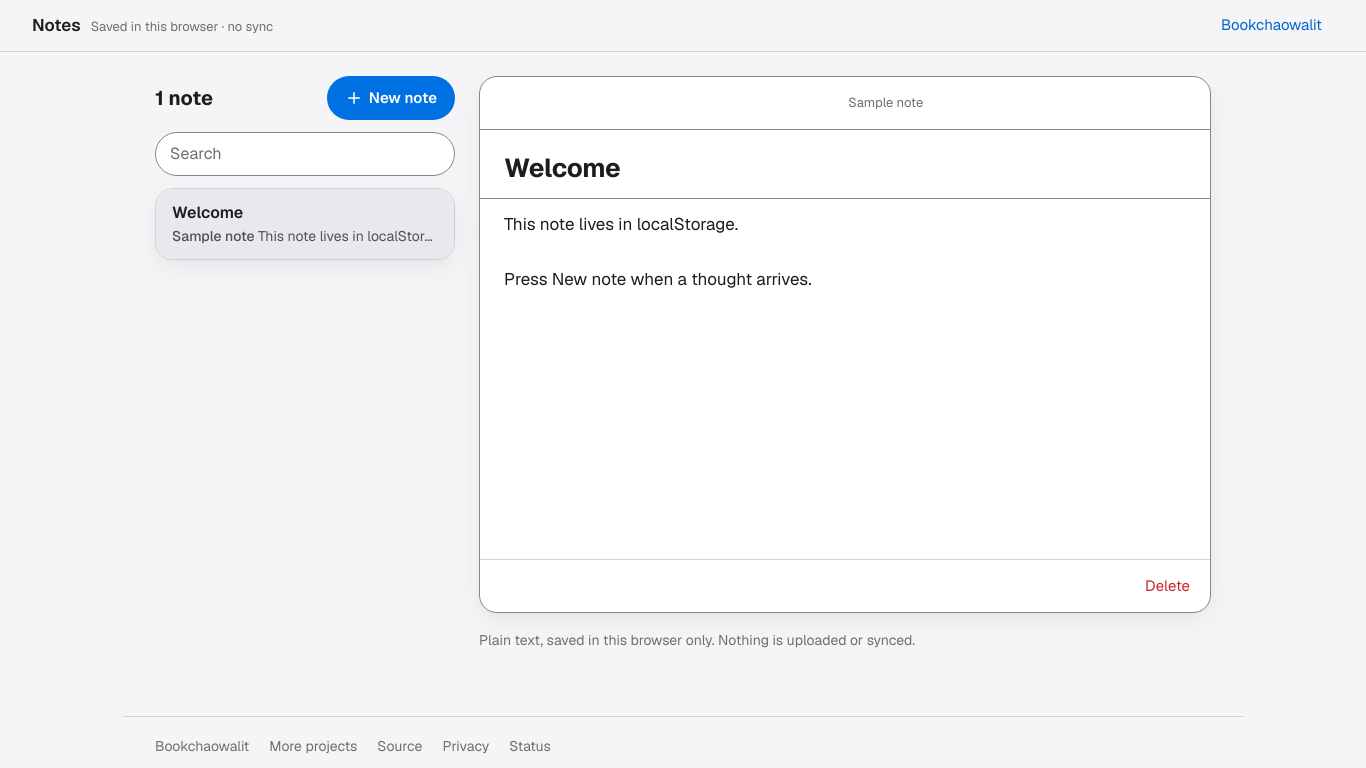
Test case: delete and undo › Delete removes the note, focuses Undo, and Undo restores and reopens it
Click the button "Delete".
click(1168, 586)  # box top-left (1133, 564), bottom-right (1202, 608)
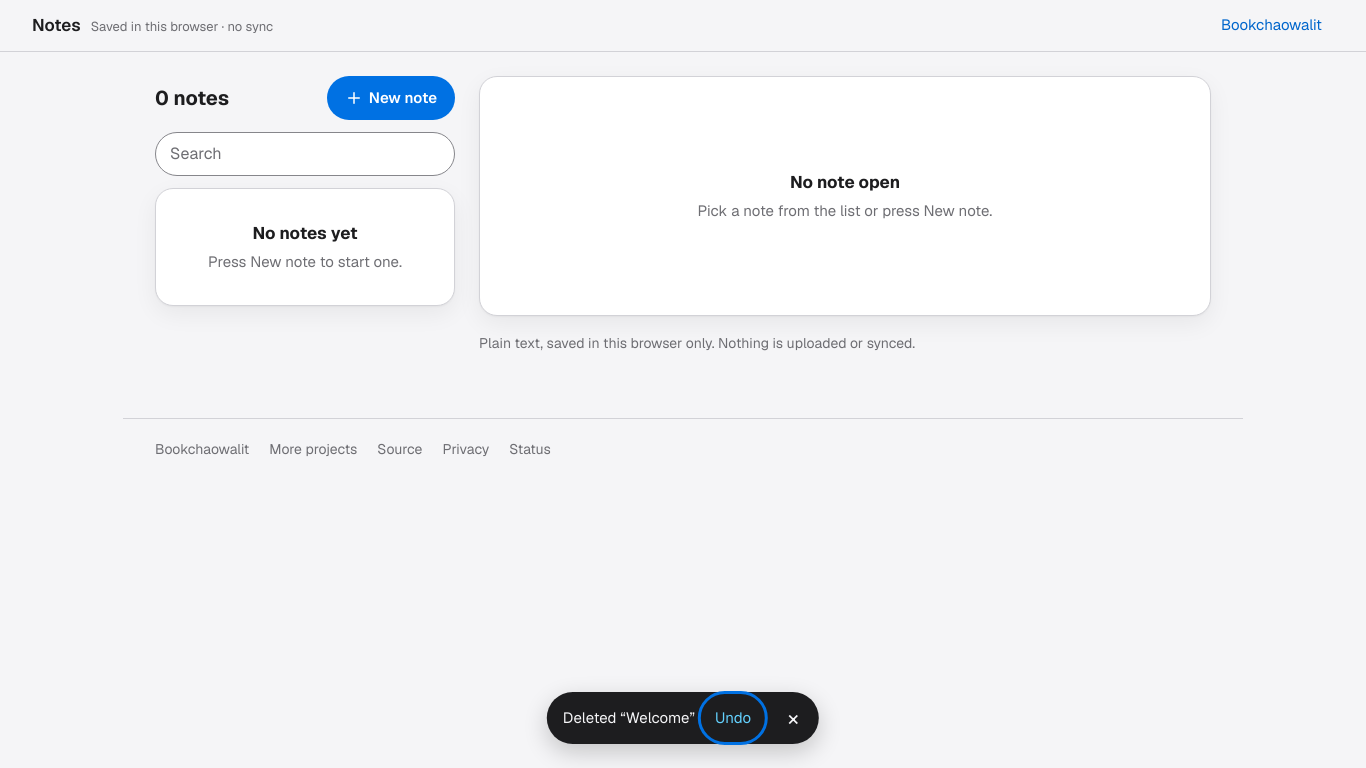
Expected: the text "No notes yet" is shown, top-left (252, 222), bottom-right (358, 244)
Expected: the button "Undo" is shown
Click the button "Undo".
click(733, 718)  # box top-left (703, 696), bottom-right (763, 740)
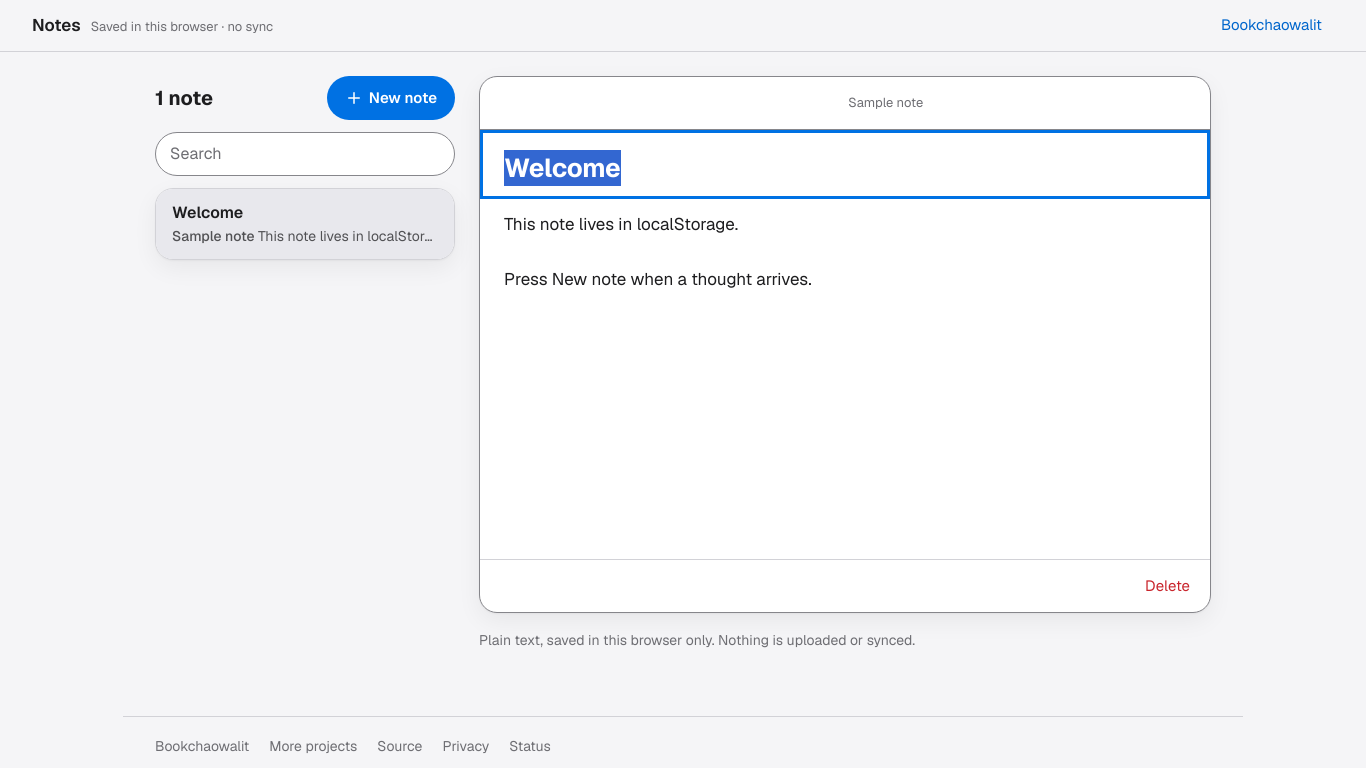
Expected: the field with id "note-title" holds "Welcome", top-left (480, 130), bottom-right (1210, 199)
